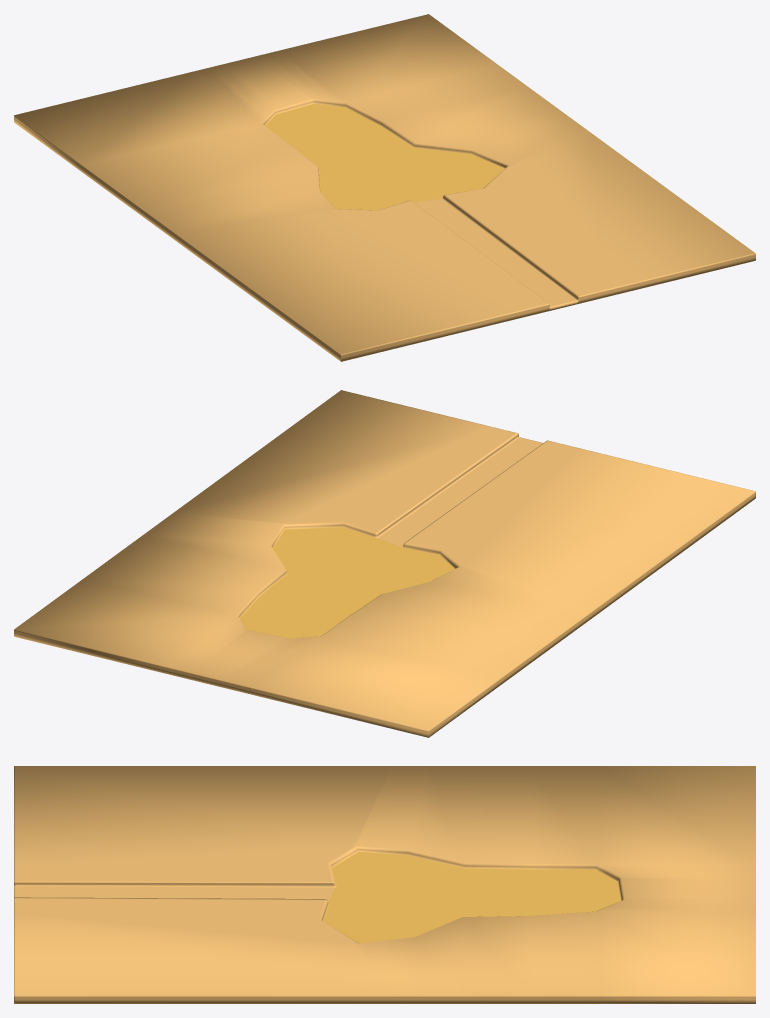
Rendered from main floor.fbx.
3 renders of one model, top to bottom at view 1: azimuth 30°, elevation 25°; view 2: azimuth 150°, elevation 25°; view 3: azimuth 270°, elevation 25°, orthographic. The views are drawn at different scales.
Parts seen in each view (by area): view 1: Plane.003; view 2: Plane.003; view 3: Plane.003.
Boxes of the visible parts, x1,y1,x2,y2 form: Plane.003: [14, 14, 755, 361]; Plane.003: [14, 390, 755, 737]; Plane.003: [14, 766, 755, 1003].
Size of the model in its own units: 6770 by 112 by 9247.
